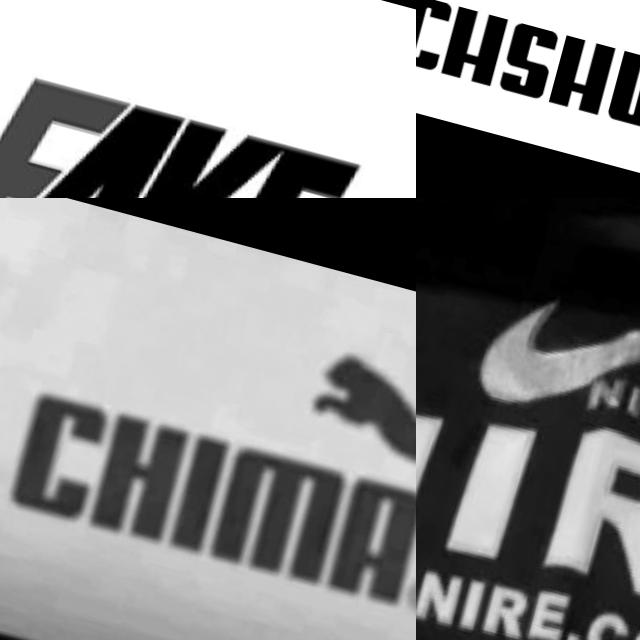NIKE_fake: (416, 198, 640, 640), (0, 0, 416, 198)
PUMA_fake: (0, 273, 416, 640), (416, 0, 640, 198)
